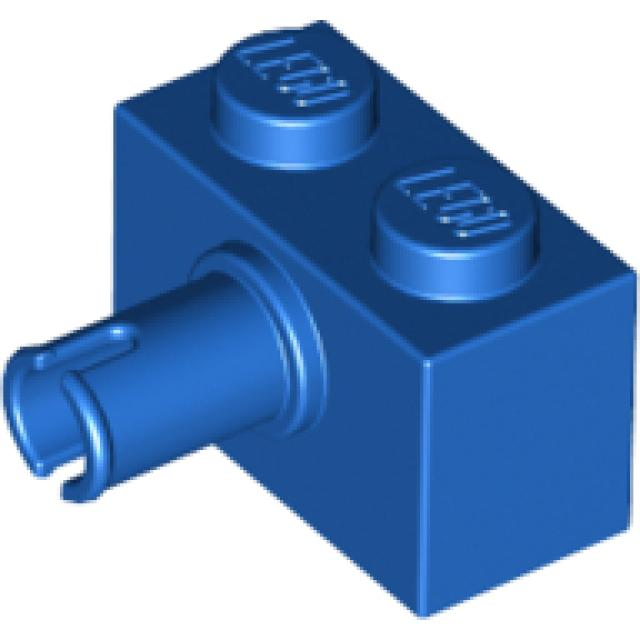Blue_Medium: (0, 20, 637, 620)
